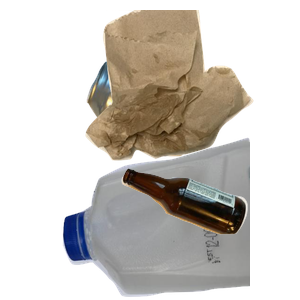glass: (119, 166, 300, 300)
metal: (84, 53, 279, 202)
plastic: (60, 135, 300, 300)
trash: (83, 10, 300, 163)
